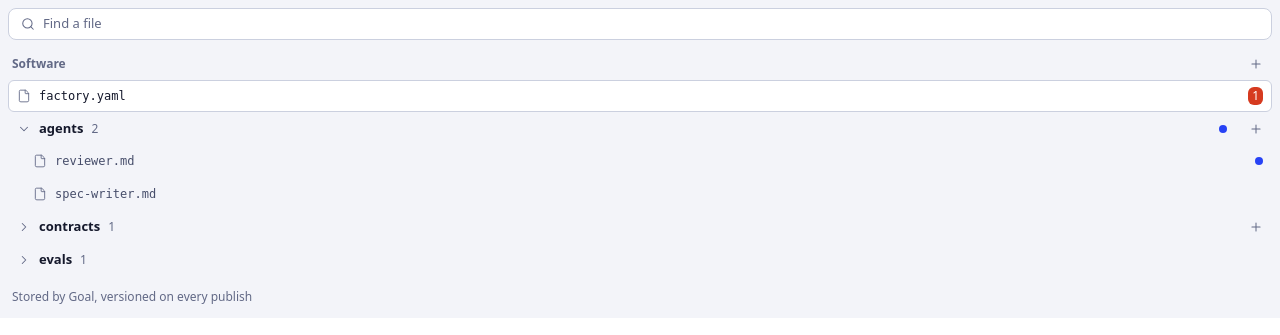
Test: FileTree › says when no file matches
Type "nothing" into the search field labelled "Find a file" at (651, 24), box [43,14,1259,34]
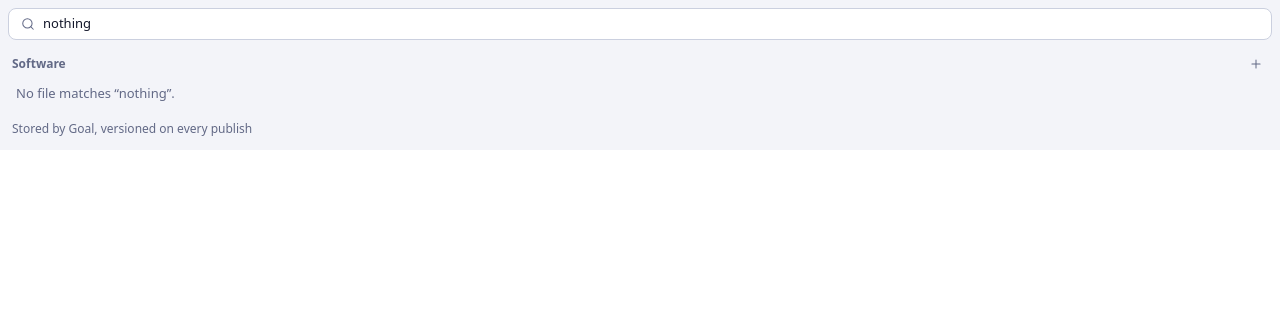
Expected: the list item "No file matches “nothing”." is shown, [16,84,175,102]
